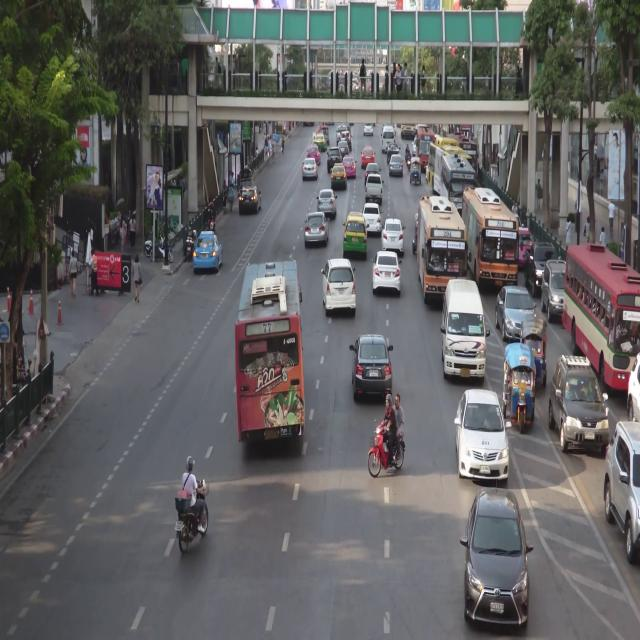bus: (237, 262, 306, 454), (564, 245, 640, 394), (463, 186, 517, 298), (418, 196, 468, 310), (430, 140, 473, 201), (442, 156, 475, 221), (447, 132, 478, 190), (416, 128, 435, 172)
car: (468, 492, 529, 630), (550, 353, 608, 451), (456, 389, 509, 485), (606, 423, 640, 558), (445, 278, 488, 381), (504, 346, 534, 432), (353, 336, 393, 400), (495, 284, 535, 344), (521, 317, 547, 390), (324, 259, 356, 315), (542, 262, 571, 320), (526, 241, 560, 290), (374, 250, 401, 296), (305, 212, 330, 246), (382, 218, 403, 255), (629, 352, 640, 422), (362, 202, 381, 235), (239, 186, 262, 213), (366, 175, 382, 206), (318, 190, 337, 215), (327, 148, 344, 170), (382, 126, 395, 153), (302, 158, 318, 178), (389, 154, 402, 178), (366, 165, 380, 184), (388, 144, 400, 163), (412, 159, 421, 184), (340, 132, 351, 149), (336, 125, 347, 141), (338, 141, 349, 156), (364, 122, 372, 136)
pedestrian: (133, 253, 142, 303), (89, 250, 99, 293), (68, 251, 77, 296), (118, 216, 126, 252), (130, 213, 137, 247), (608, 200, 614, 237), (228, 183, 235, 212), (566, 214, 572, 246), (178, 173, 185, 200), (585, 216, 591, 244), (537, 176, 542, 209), (599, 225, 606, 247), (223, 179, 227, 207), (264, 135, 269, 155), (230, 172, 235, 190), (271, 144, 275, 165), (281, 133, 285, 152), (171, 179, 177, 190), (255, 146, 259, 162), (268, 137, 271, 156)
taxi: (194, 232, 224, 271), (344, 212, 367, 258), (515, 224, 535, 264), (332, 164, 346, 187), (342, 156, 356, 178), (362, 146, 375, 166), (307, 146, 320, 162), (314, 134, 326, 150)
